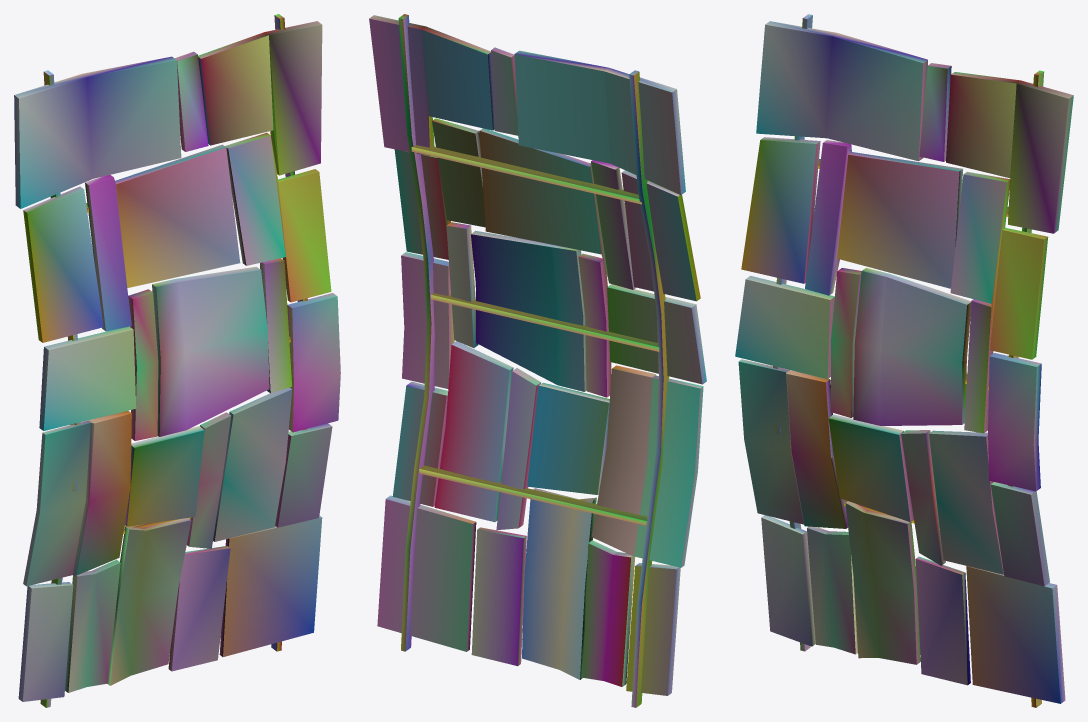
Rendered from Dock_Wide_StraightB.glb.
The picture shows the model from 3 angles, left to right: view 1: azimuth 30°, elevation 25°; view 2: azimuth 150°, elevation 25°; view 3: azimuth 330°, elevation 25°; orthographic projection.
Visible parts, largest first — view 1: MeshNode_0; view 2: MeshNode_0; view 3: MeshNode_0.
Part boxes in pixels (bbox=[...]): MeshNode_0: bbox=[14, 14, 340, 707]; MeshNode_0: bbox=[369, 14, 706, 707]; MeshNode_0: bbox=[735, 14, 1073, 707].
Bounding box in the file's own units: 33.29 × 65.51 × 6.99.
